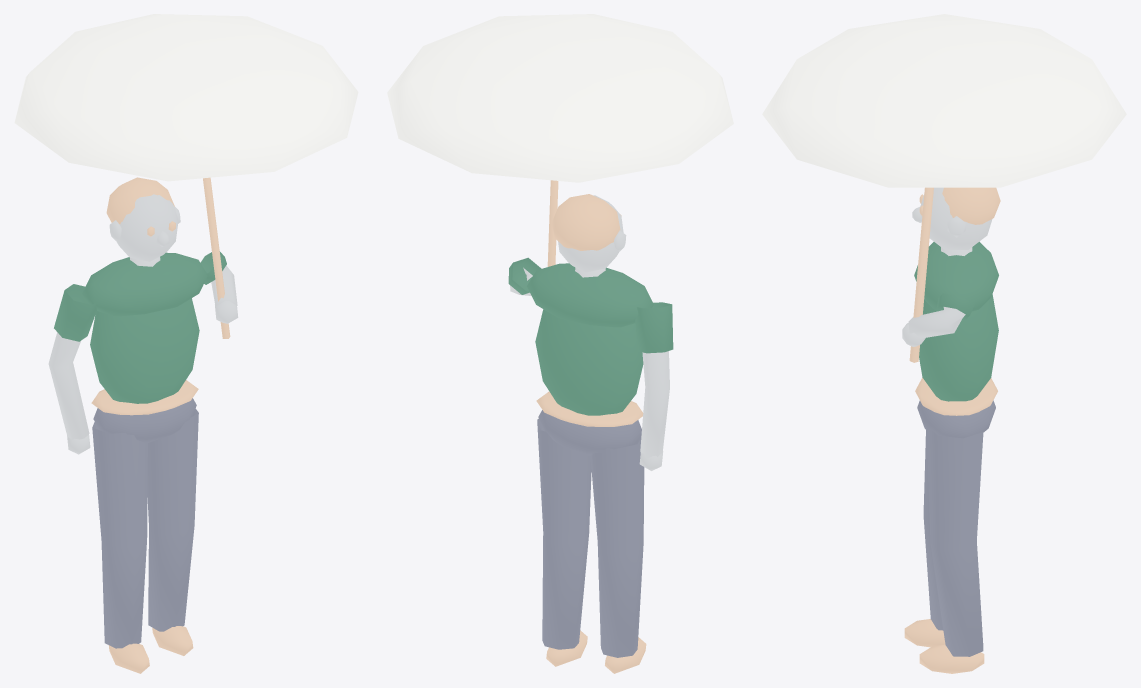
Rendered from Blender_Spectator_3.glb.
3 renders of one model, left to right at view 1: azimuth 30°, elevation 25°; view 2: azimuth 150°, elevation 25°; view 3: azimuth 270°, elevation 25°, orthographic. The views are drawn at different scales.
Parts seen in each view (by area): view 1: Blender_Spectator_3; view 2: Blender_Spectator_3; view 3: Blender_Spectator_3.
Part boxes in pixels (x1=…): Blender_Spectator_3: x1=14, y1=14, x2=358, y2=673; Blender_Spectator_3: x1=387, y1=14, x2=733, y2=673; Blender_Spectator_3: x1=762, y1=14, x2=1126, y2=673.
Bounding box in the file's own units: 1.14 × 2.29 × 1.2.
